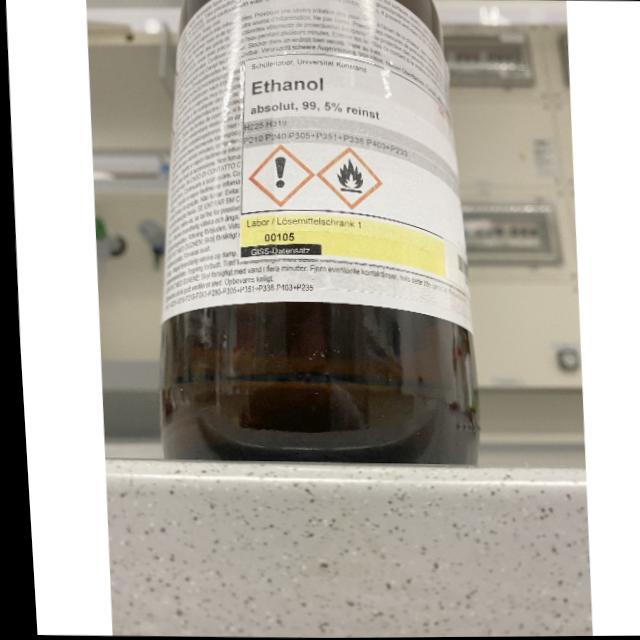flammable: (333, 159, 362, 194)
health-ozone layer hazard: (272, 157, 285, 188)
